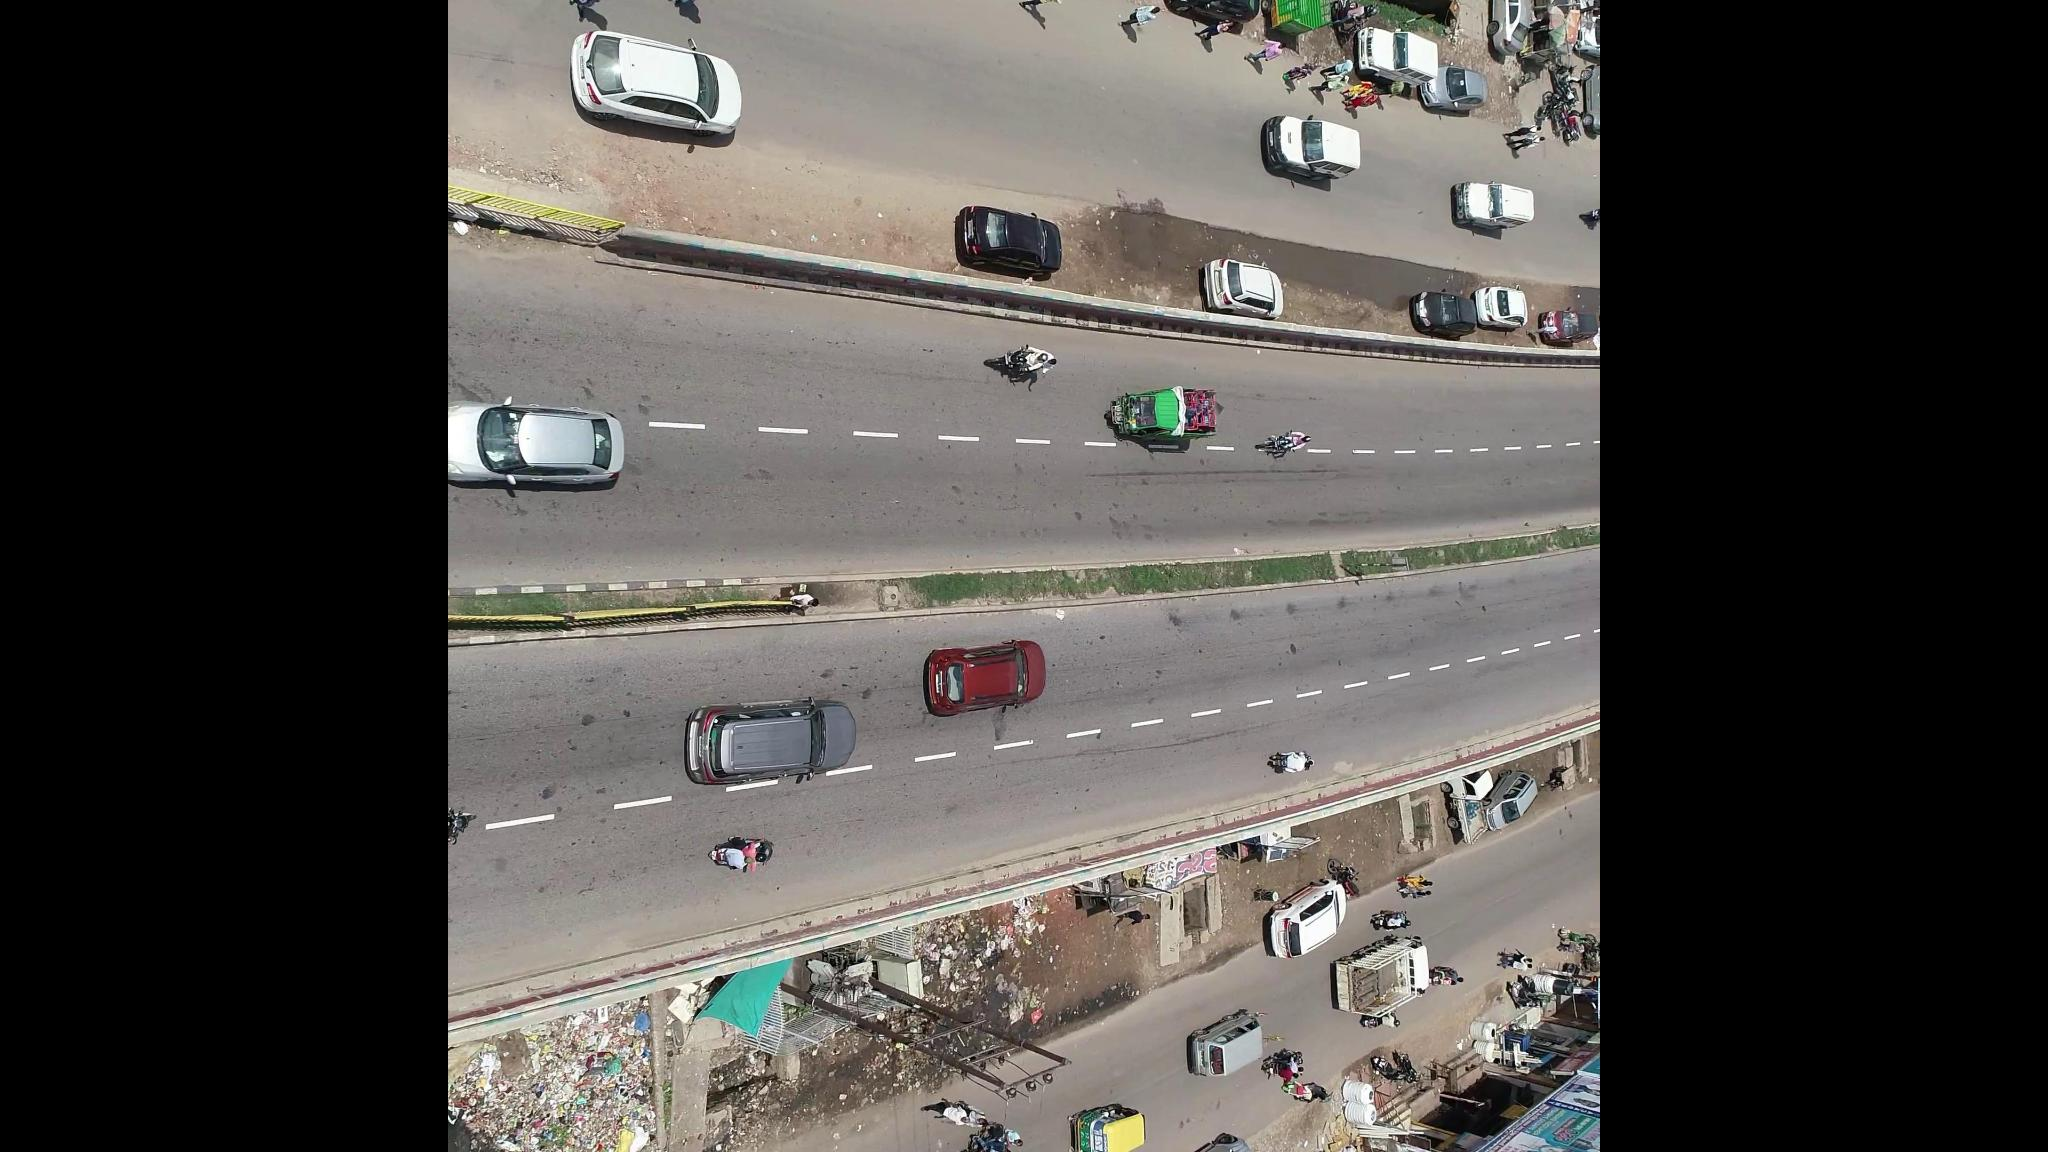Road_side_garbage: (494, 1034, 651, 1152)
